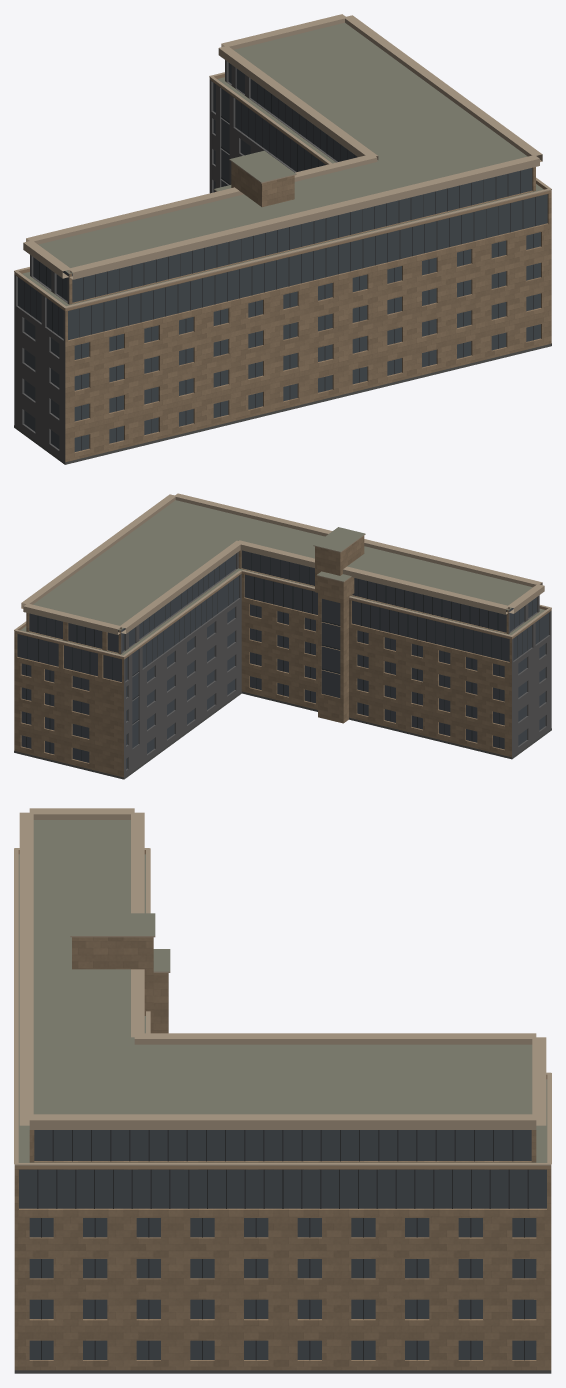
The picture shows the model from 3 angles, top to bottom: view 1: azimuth 30°, elevation 25°; view 2: azimuth 150°, elevation 25°; view 3: azimuth 270°, elevation 25°; orthographic projection. The views are drawn at different scales.
Visible parts, largest first — view 1: jinri__wall, jinri__glass, jinri__roof, jinri__trim, jinri__wall2, jinri__frame, jinri__parapet, jinri__base; view 2: jinri__wall, jinri__glass, jinri__roof, jinri__wall2, jinri__trim, jinri__frame, jinri__base, jinri__parapet; view 3: jinri__wall, jinri__roof, jinri__glass, jinri__trim, jinri__frame, jinri__base, jinri__parapet.
Boxes of the visible parts, x1,y1,x2,y2 form: jinri__wall: (30,81,551,462); jinri__glass: (18,63,547,451); jinri__roof: (22,23,543,306); jinri__trim: (14,14,551,308); jinri__wall2: (14,60,337,464); jinri__frame: (24,84,535,450); jinri__parapet: (14,74,551,311); jinri__base: (14,343,551,464); jinri__wall: (14,536,538,777); jinri__glass: (17,550,548,769); jinri__roof: (20,500,545,655); jinri__wall2: (121,552,551,778); jinri__trim: (14,493,551,657); jinri__frame: (26,553,539,760); jinri__base: (14,691,551,779); jinri__parapet: (14,572,551,659); jinri__wall: (14,937,551,1370); jinri__roof: (18,820,547,1162); jinri__glass: (19,1130,546,1359); jinri__trim: (14,808,551,1165); jinri__frame: (37,1130,528,1360); jinri__base: (14,1370,551,1373); jinri__parapet: (14,850,551,1168).
Bounding box in the file's own units: 59.83 × 25.12 × 42.93.
Materials: 8 (1 with a texture image).
